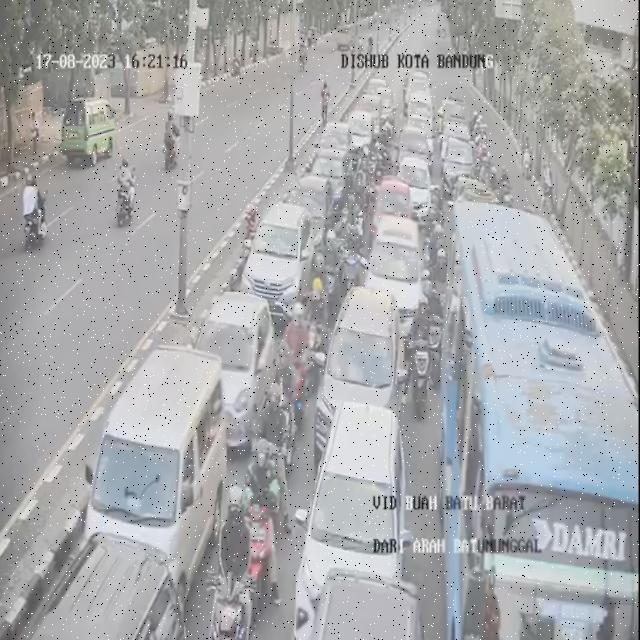bus: (441, 209, 634, 640)
cars: (83, 343, 221, 595), (302, 408, 418, 640), (21, 536, 184, 640), (316, 285, 411, 463), (201, 292, 277, 446), (296, 572, 424, 640), (244, 204, 314, 320), (365, 218, 428, 334), (286, 168, 332, 247), (370, 176, 412, 242), (399, 155, 434, 219), (313, 148, 352, 196), (398, 122, 431, 170), (322, 121, 356, 150), (349, 107, 374, 144)
motorcycle: (242, 439, 284, 616), (212, 487, 253, 640), (404, 292, 443, 412), (284, 296, 312, 413), (431, 246, 449, 346), (260, 388, 286, 455), (320, 226, 339, 314), (305, 273, 328, 341), (271, 338, 296, 396), (305, 249, 329, 293)
